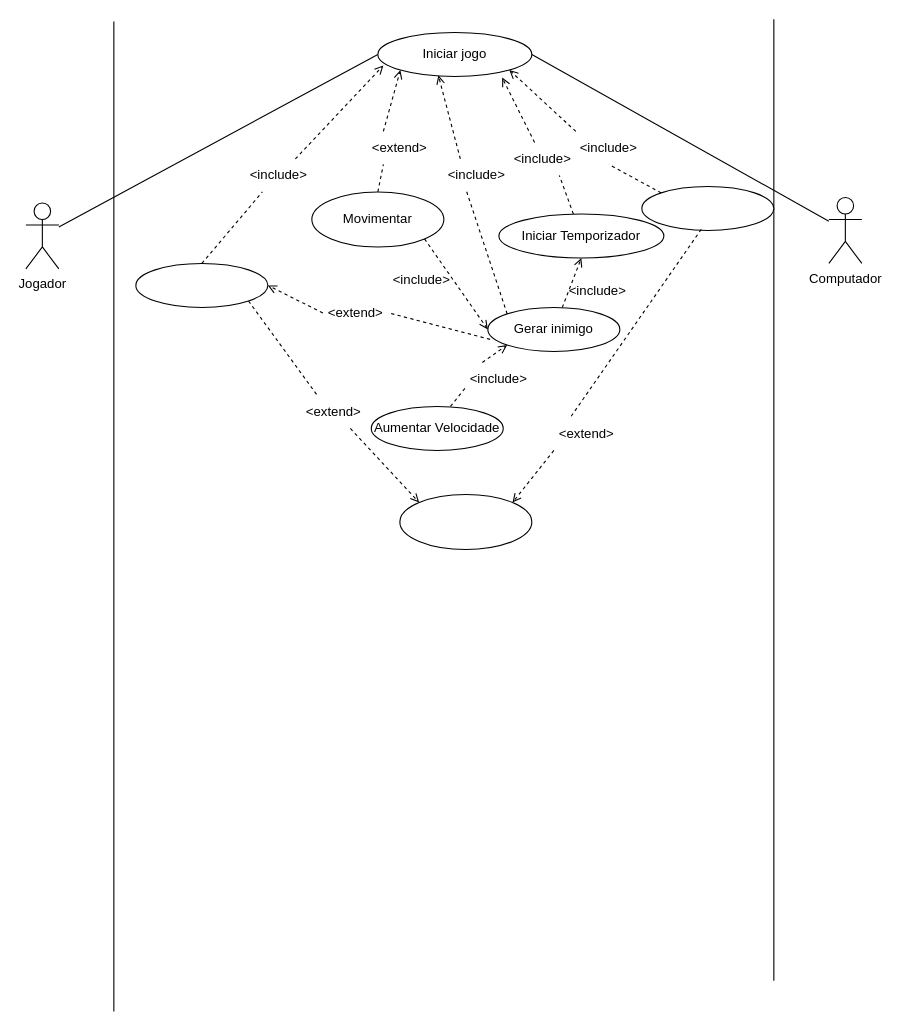
Some shapes in this 901 by 1032 pixel diagram are drawn without their labels. Here are the shapes that lost their labels. From the top down, the centre of each, then its label:
(707,207): Gerenciar Pontuação
(201,284): Gerenciar Vida
(465,521): Finalizar Jogo
